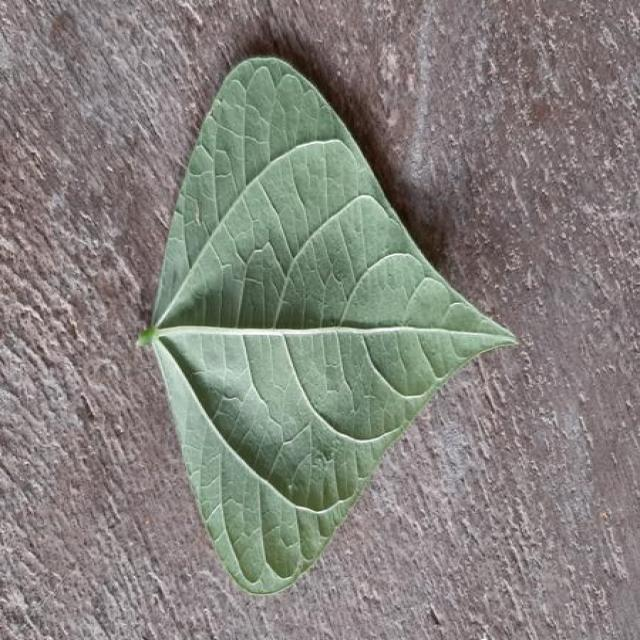beans: (140, 58, 515, 593)
